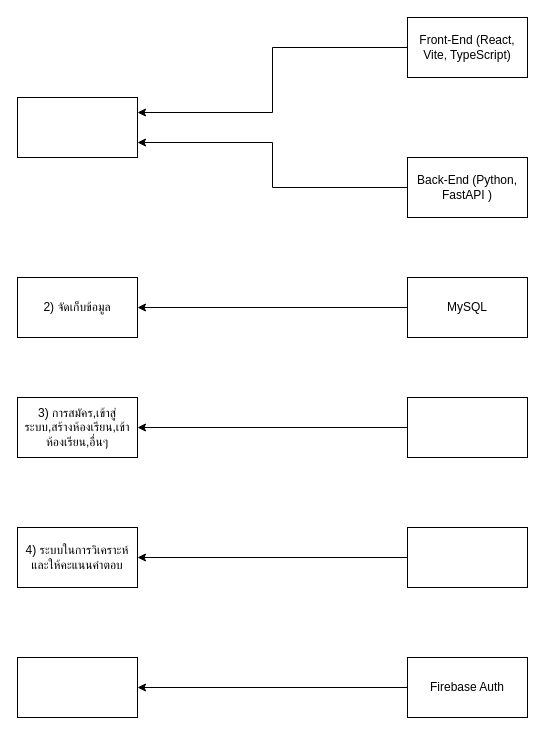
The diagram is 545 pixels wide and 735 high, and some of its shapes have lost their labels. The shapes that lost their labels are listed below. From the top down, each one's centre as x and y in pixels, then its label:
At (x=77, y=127): "1) พัฒนาเว็ปเเอพ LLMs Auto Score Systems".
At (x=467, y=427): "RESTful API".
At (x=467, y=557): "Google Gemini API".
At (x=77, y=687): "5) กู้รหัสผ่าน".
